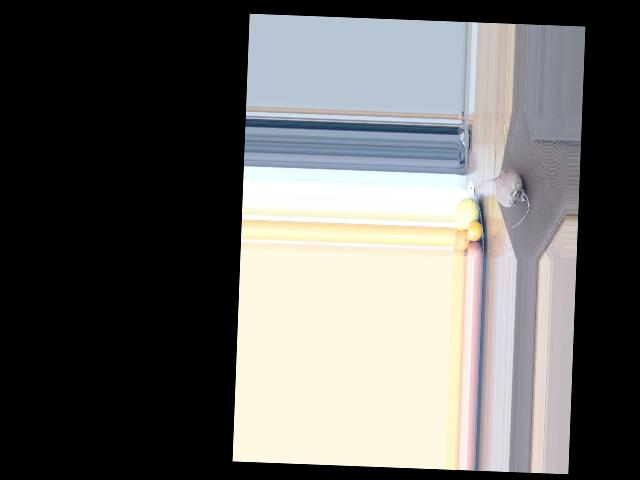beet: (477, 167, 531, 228)
